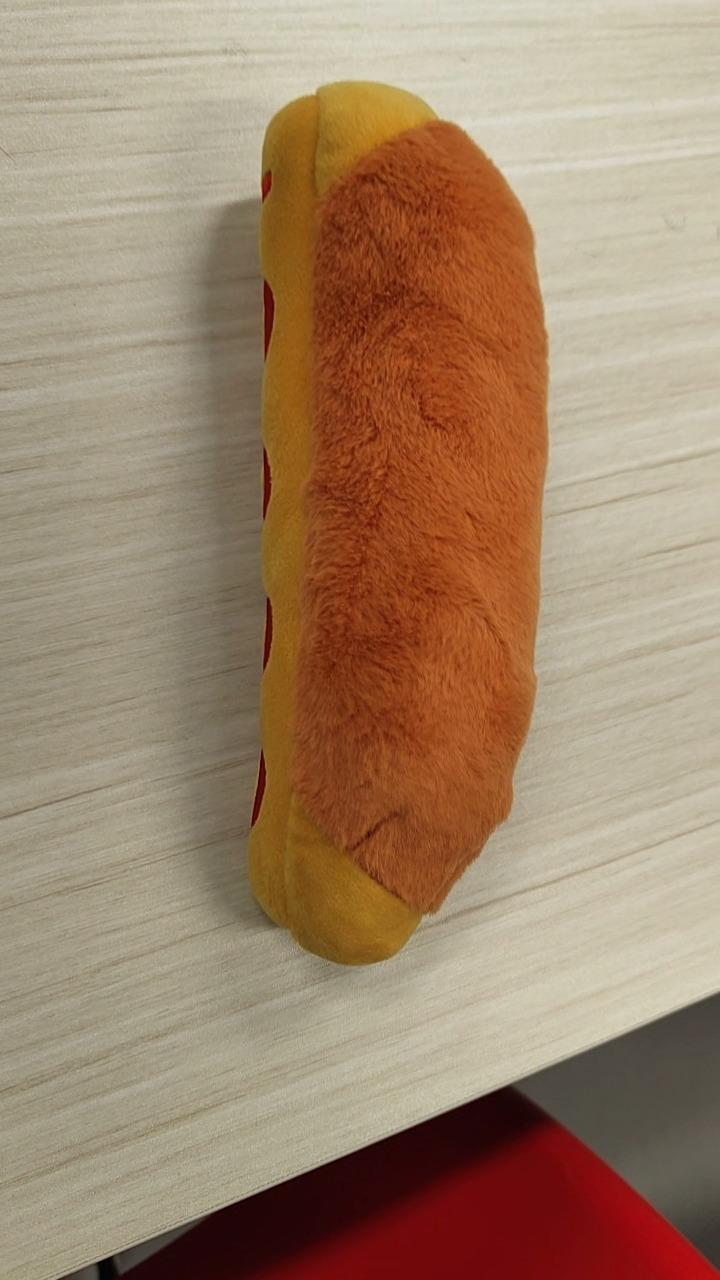hotdog: (246, 78, 550, 966)
